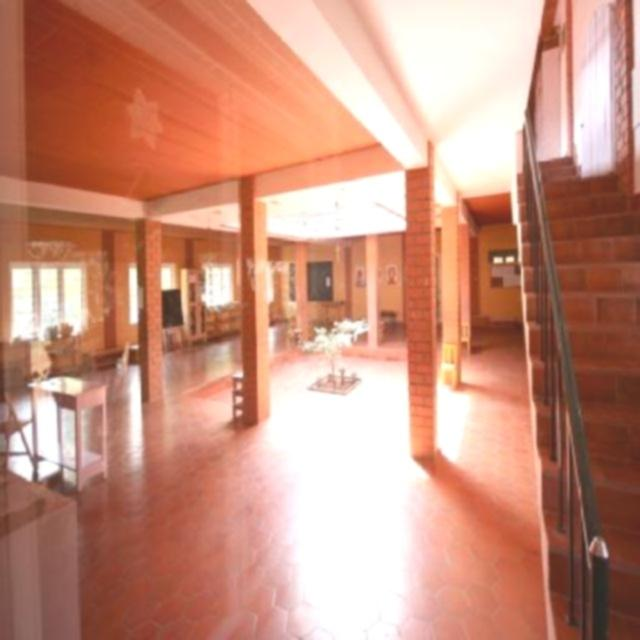stair: (516, 146, 640, 640)
